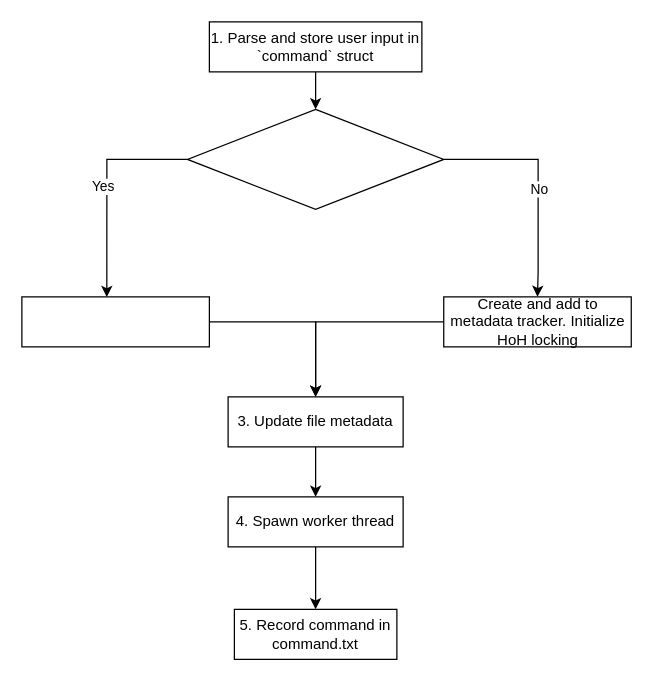
This 654x681 diagram has some shape labels left out. Here are the shapes that lost their labels. From the top down, the box of each, then its label:
(186, 108, 444, 209): 2. Is filepath in metadata tracker?
(21, 296, 209, 347): Hand over recent lock
